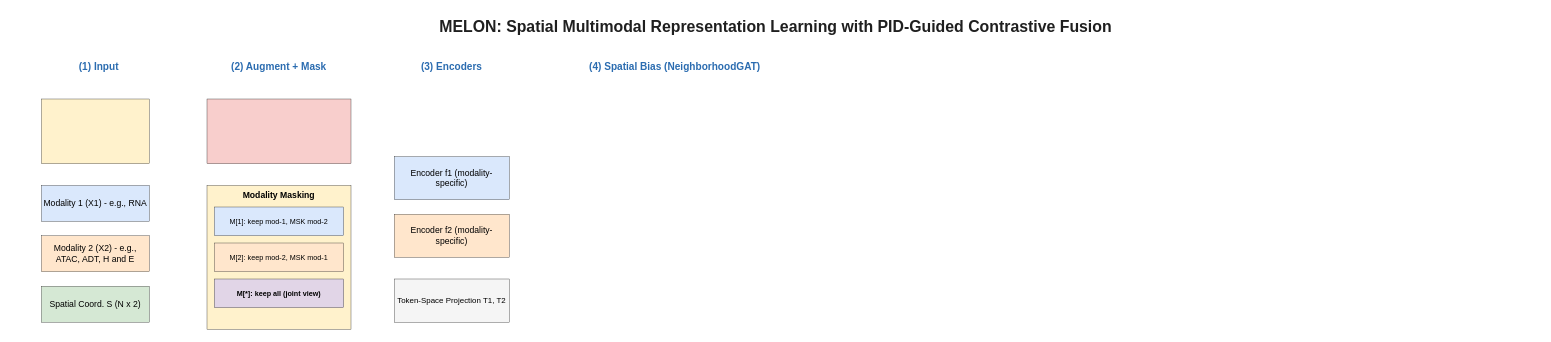
Some shapes in this 1551 by 342 pixel diagram are drawn without their labels. The shapes that lost their labels are listed below. From the top down, each one's centre as x and y in pixels, then its label:
At (95,131): "Tissue Section (paired modalities)".
At (278,131): "Augmentations t1, t2 (Gaussian, dropout, mix)".
